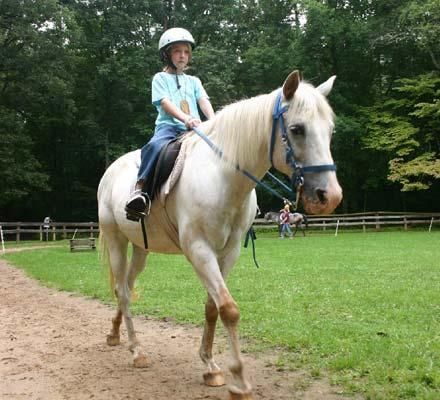person: (125, 24, 216, 223)
